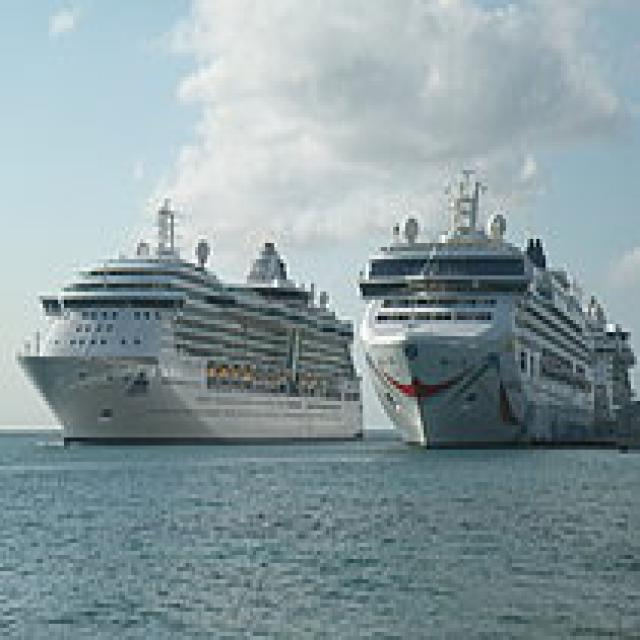Ship: (10, 171, 373, 451), (351, 167, 640, 459)
